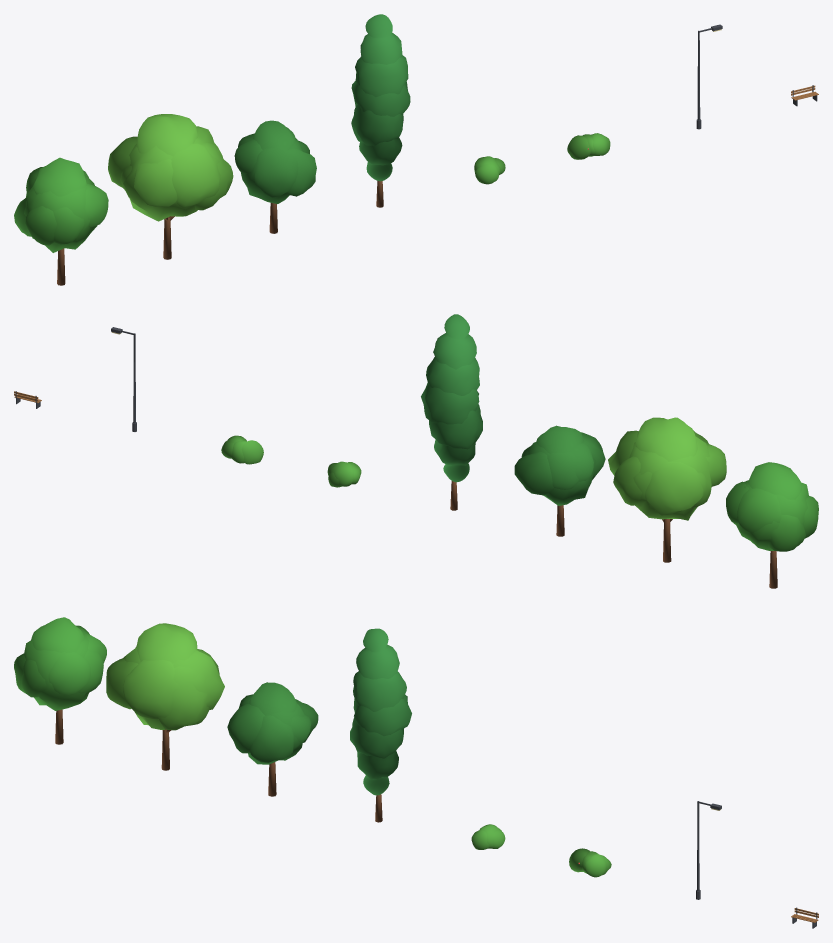
File: props.glb
3 views of the same model, one above another, from view 1: azimuth 30°, elevation 25°; view 2: azimuth 150°, elevation 25°; view 3: azimuth 330°, elevation 25° (orthographic).
Visible parts, largest first — view 1: tree_b, poplar, tree_a, tree_c, bush_b, bush_a; view 2: tree_b, poplar, tree_a, tree_c, bush_b, bush_a; view 3: tree_b, poplar, tree_a, tree_c, bush_b, bush_a.
Boxes of the visible parts, left/top/right/bottom form: tree_b: left=108, top=114, right=233, bottom=259; poplar: left=351, top=14, right=410, bottom=207; tree_a: left=14, top=157, right=108, bottom=285; tree_c: left=234, top=120, right=316, bottom=233; bush_b: left=567, top=133, right=610, bottom=159; bush_a: left=474, top=156, right=505, bottom=184; tree_b: left=608, top=417, right=726, bottom=562; poplar: left=421, top=314, right=482, bottom=510; tree_a: left=726, top=462, right=818, bottom=588; tree_c: left=514, top=425, right=605, bottom=536; bush_b: left=221, top=435, right=263, bottom=464; bush_a: left=327, top=461, right=361, bottom=487; tree_b: left=106, top=623, right=224, bottom=770; poplar: left=350, top=628, right=411, bottom=822; tree_a: left=14, top=617, right=106, bottom=744; tree_c: left=227, top=682, right=318, bottom=796; bush_b: left=569, top=848, right=611, bottom=877; bush_a: left=471, top=824, right=505, bottom=849.
Bounding box in the file's own units: 59.8 × 13.83 × 7.73.
